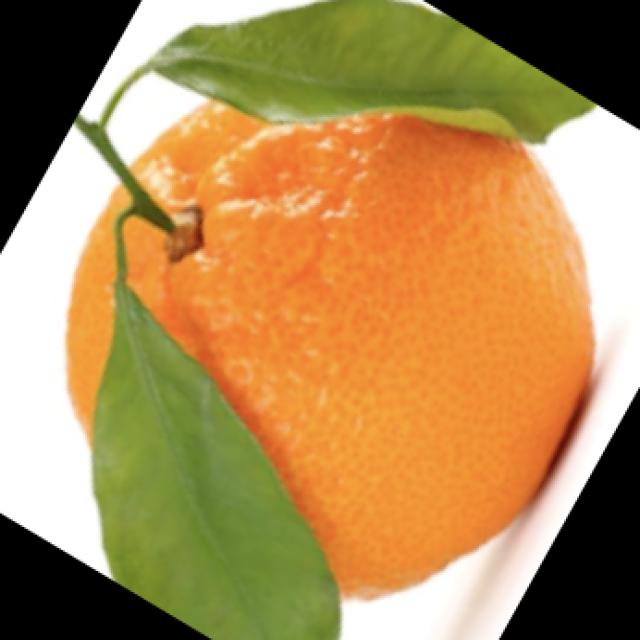matang: (69, 104, 591, 596)
